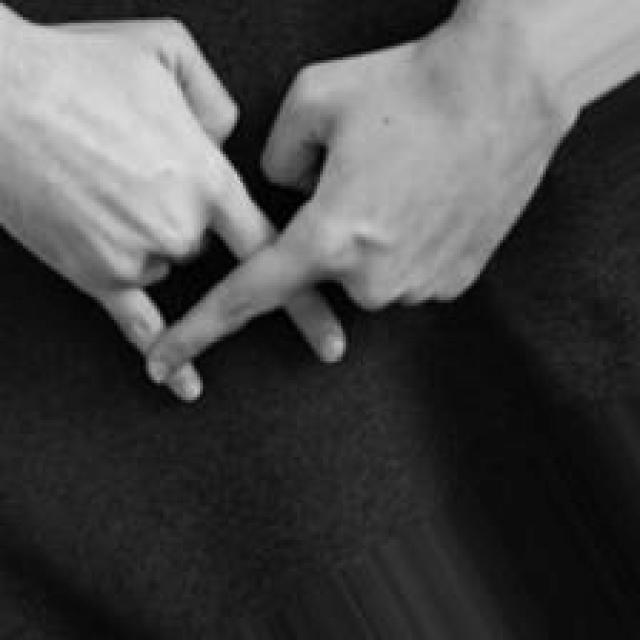H: (0, 0, 537, 400)
